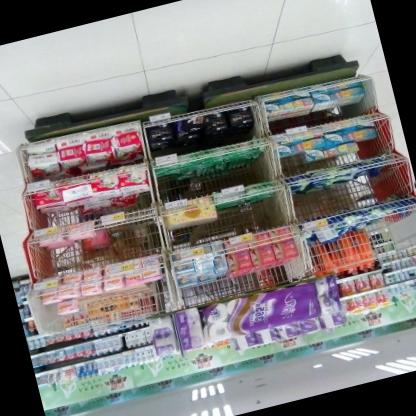empty_space: (109, 212, 158, 256)
